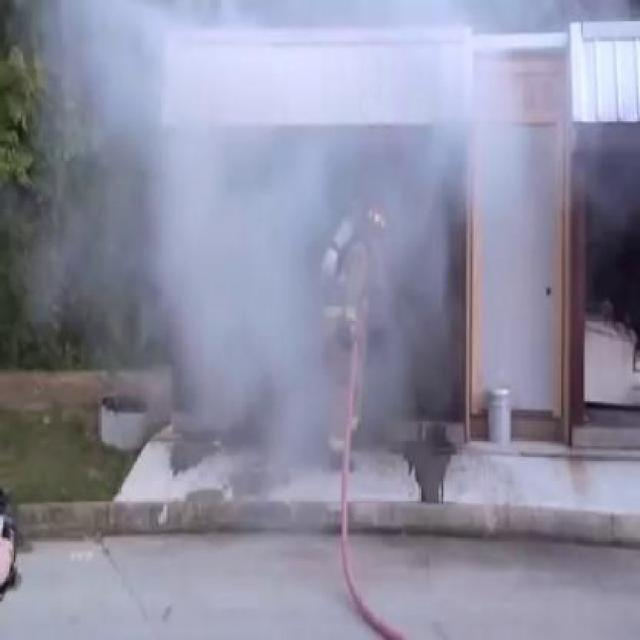smoke: (57, 2, 468, 460)
